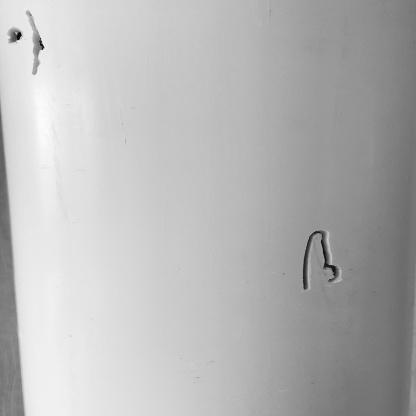fengxi: (280, 213, 354, 298), (21, 8, 58, 87)
kongdong: (4, 24, 26, 46)
